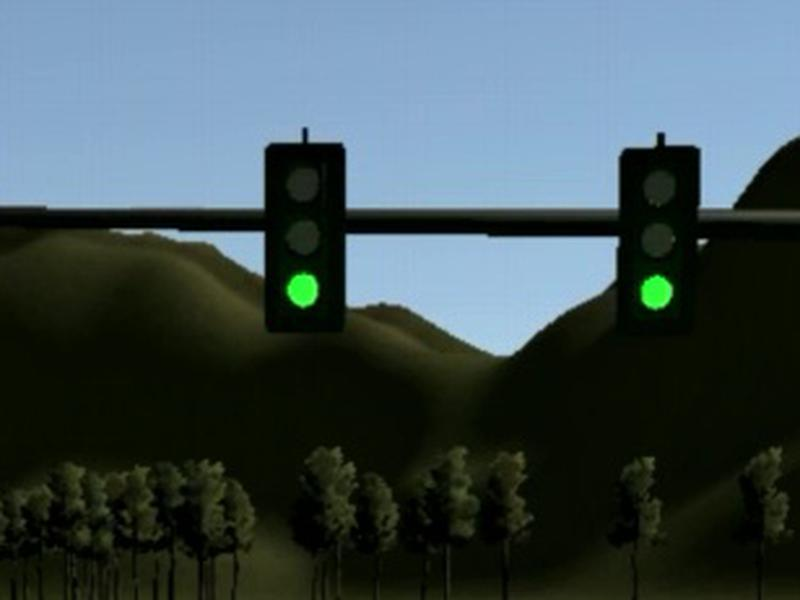Green: (617, 145, 701, 337), (264, 142, 345, 335)
